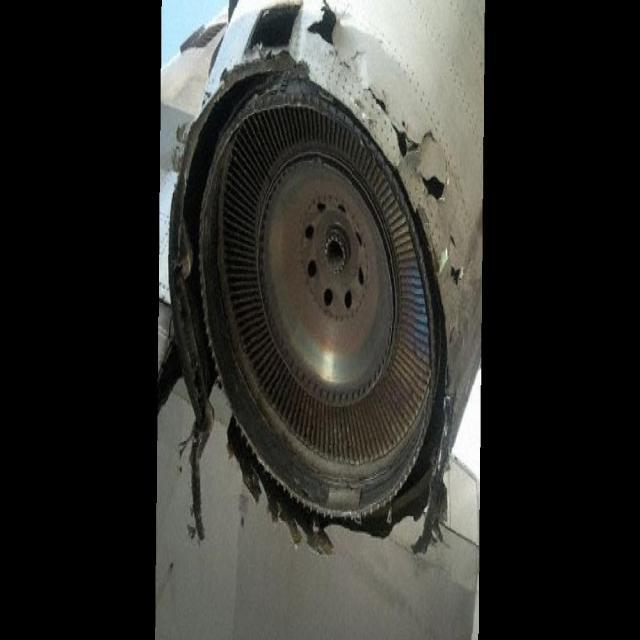crack: (300, 3, 471, 288)
